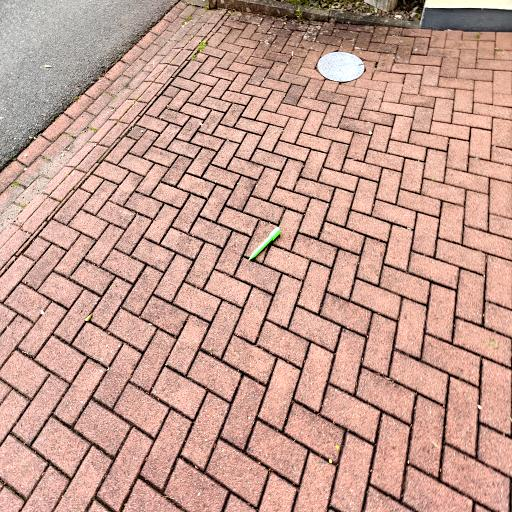Probe-Detection: (249, 227, 281, 260)
